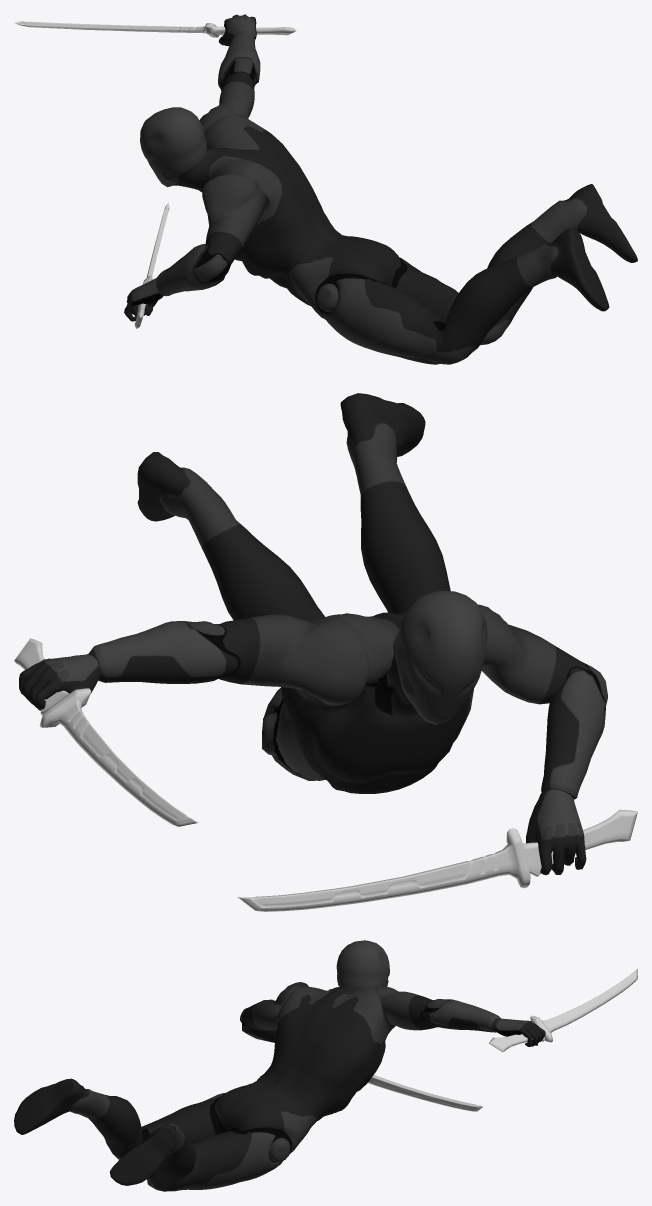
The picture shows the model from 3 angles, top to bottom: view 1: azimuth 30°, elevation 25°; view 2: azimuth 150°, elevation 25°; view 3: azimuth 270°, elevation 25°; orthographic projection. The views are drawn at different scales.
Parts seen in each view (by area): view 1: Cyborg_Ninja_Killer, Sword_l001, Sword_l; view 2: Cyborg_Ninja_Killer, Sword_l, Sword_l001; view 3: Cyborg_Ninja_Killer, Sword_l001, Sword_l.
Part boxes in pixels (x1,y1,x2,y2): Cyborg_Ninja_Killer: (124,14,637,364); Sword_l001: (14,21,296,37); Sword_l: (134,203,169,328); Cyborg_Ninja_Killer: (19,393,607,875); Sword_l: (238,809,637,911); Sword_l001: (14,638,198,826); Cyborg_Ninja_Killer: (14,940,545,1191); Sword_l001: (489,969,637,1052); Sword_l: (368,1075,482,1111).
Size of the model in its own units: 145 by 70.6 by 228.
